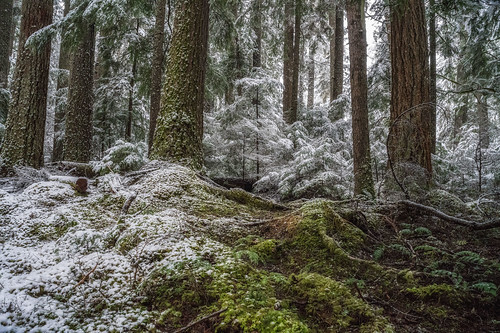vegetation: (15, 1, 500, 167)
